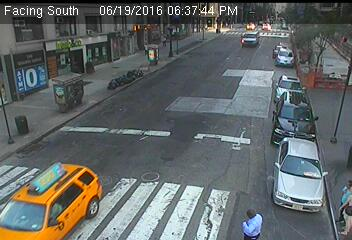neg: (42, 193, 66, 225), (237, 32, 248, 46)
pos: (241, 206, 264, 237)
